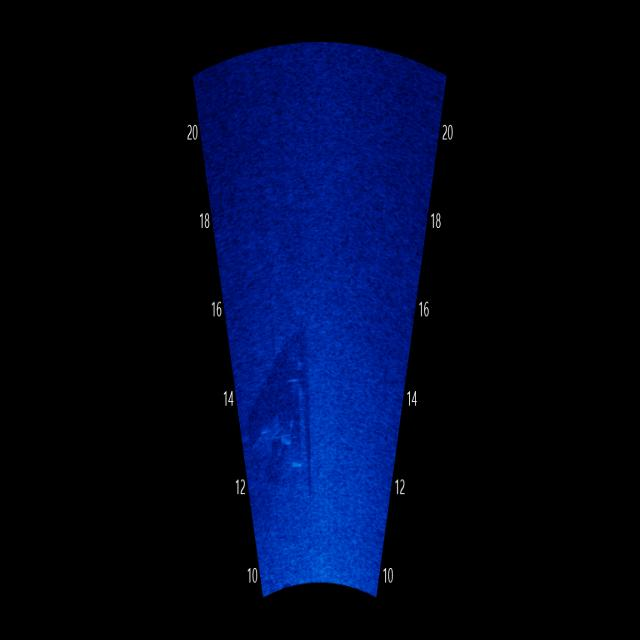triangle: (245, 319, 323, 517)
